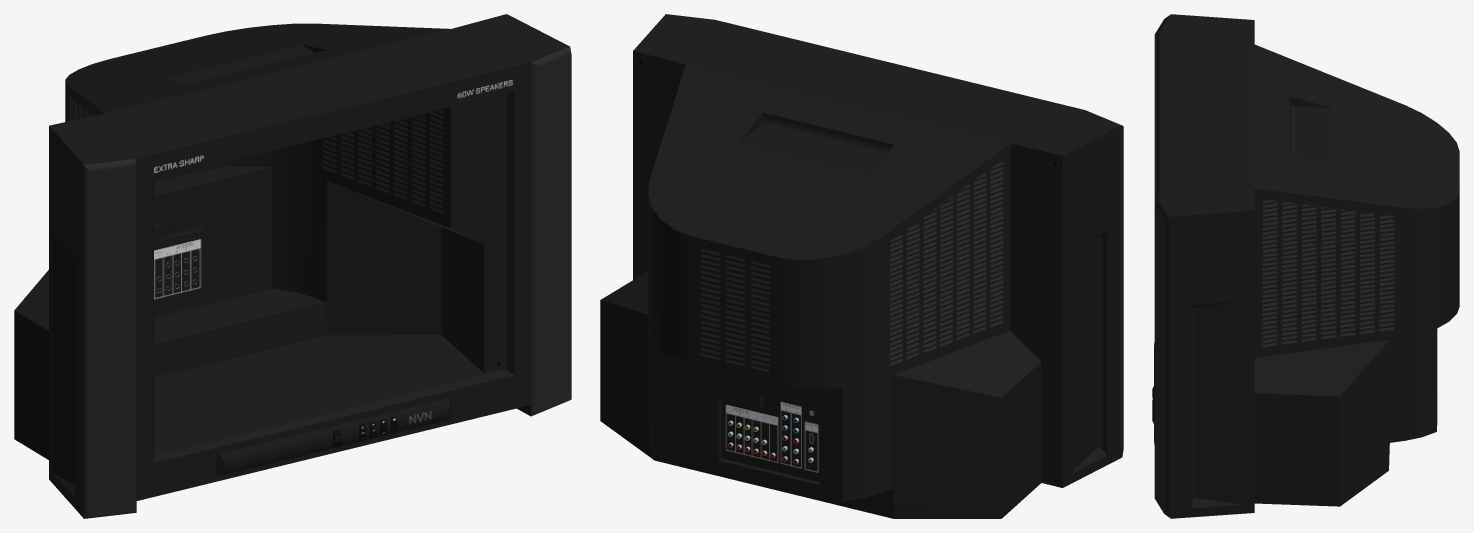
3 renders of one model, left to right at view 1: azimuth 30°, elevation 25°; view 2: azimuth 150°, elevation 25°; view 3: azimuth 270°, elevation 25°, orthographic. The views are drawn at different scales.
Visible parts, largest first — view 1: model_0; view 2: model_0; view 3: model_0.
Boxes of the visible parts, x1,y1,x2,y2 form: model_0: (14,14,571,518); model_0: (600,14,1123,518); model_0: (1152,14,1459,518).
Size of the model in its own units: 1.57 by 1.09 by 1.
1 material, 1 textured.
